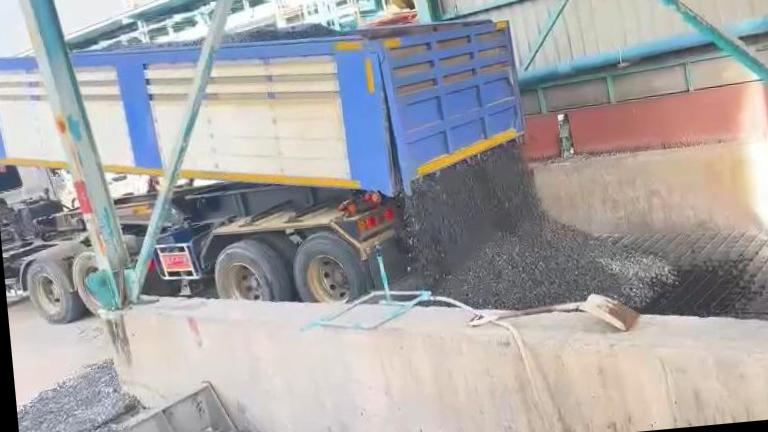gravel: (405, 141, 676, 307), (18, 361, 126, 432), (224, 23, 346, 44)
